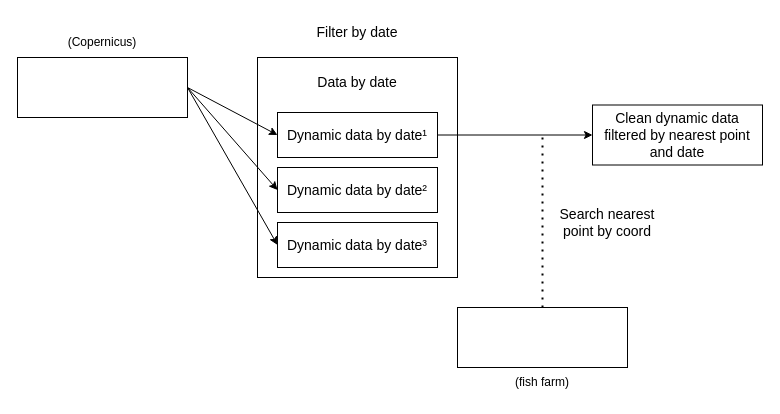
Some shapes in this 780 by 414 pixel diagram are drawn without their labels. Each missing label, with the box of its shape:
Clean dynamic data: (16, 56, 188, 118)
Static Data: (456, 306, 628, 368)
